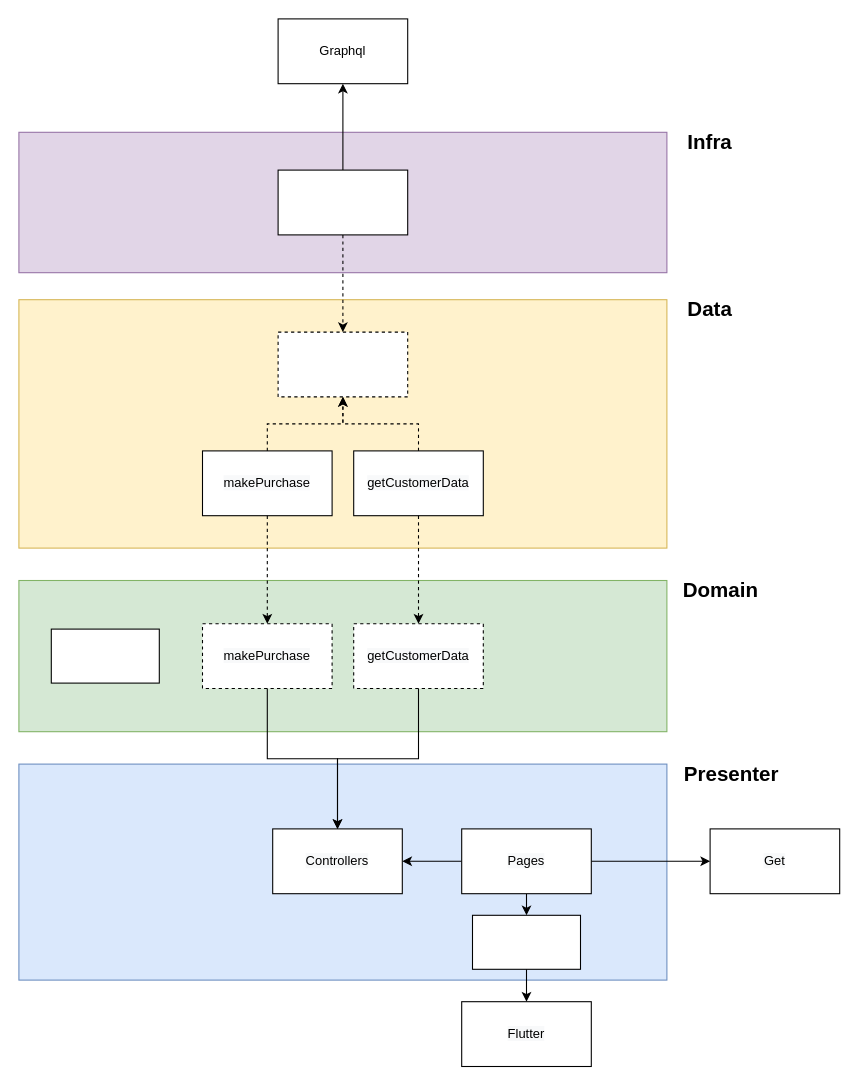
The diagram is 859 pixels wide and 1085 high, and some of its shapes have lost their labels. Here are the shapes that lost their labels. From the top down, the centre of each, then its label:
At point (342, 202): "GraphqlImpl".
At point (342, 364): "IGraphql".
At point (104, 655): "Entites".
At point (525, 941): "Main".
